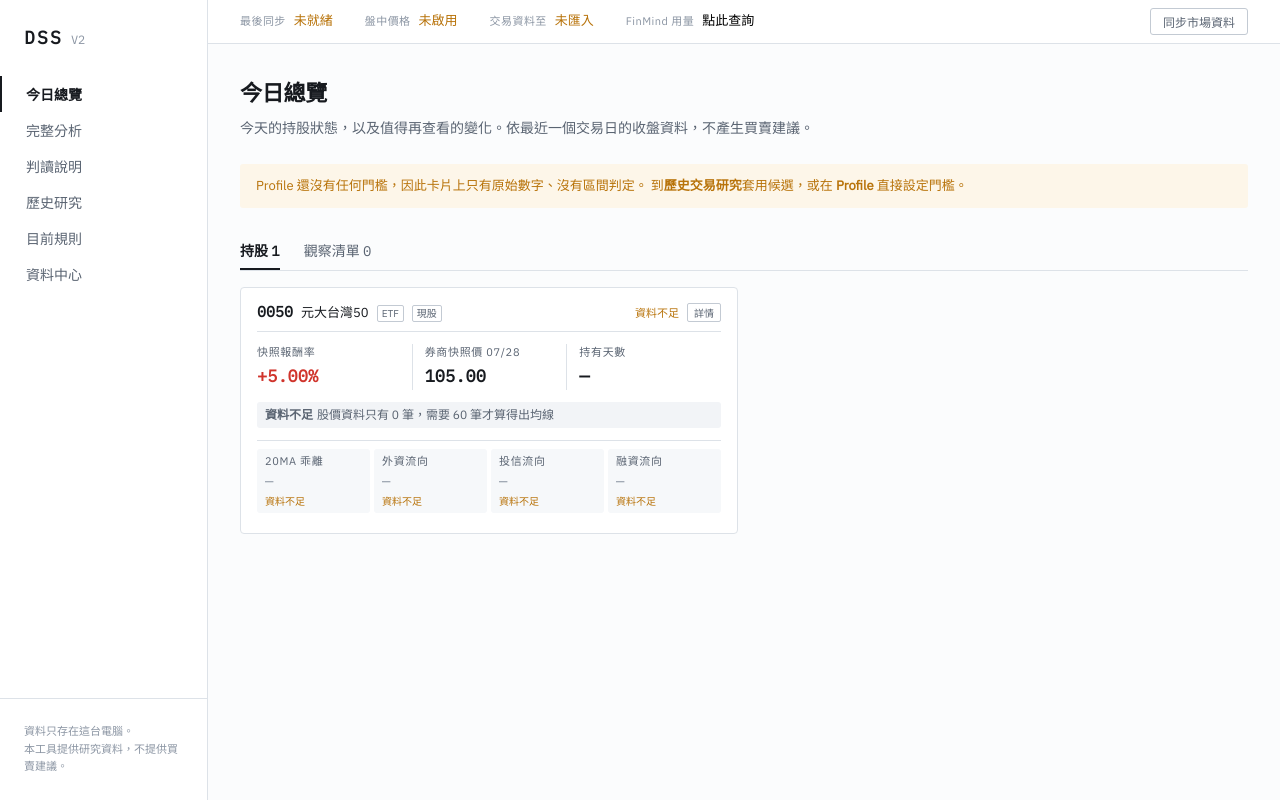
Test: AppShell › 點擊持股卡滑出詳情，持倉獨立成區且標明不參與判讀
The width and height of the screenshot is (1280, 800).
Click the button with aria-label "0050 元大台灣50 詳情" at [704, 312], box [687,303,721,322]
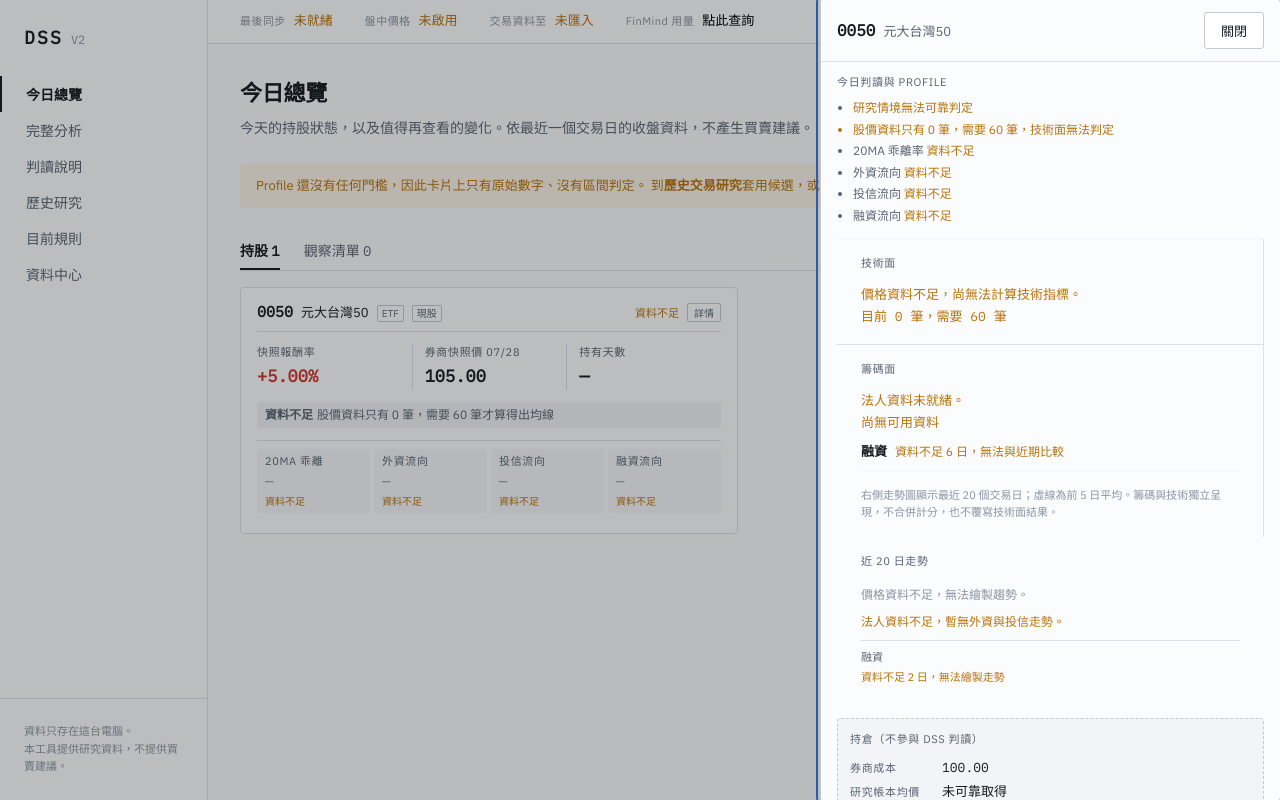
Expected: the heading "持倉（不參與 DSS 判讀）" is shown, [850,732,984,746]
Expected: the element named "DSS 原因" is shown, [837,62,1264,239]
